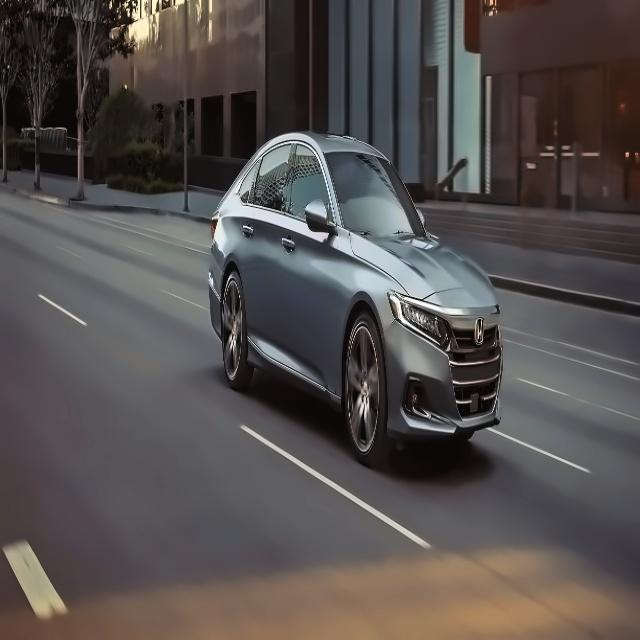Car hood: (348, 228, 507, 317)
Driver-s door - -F-R-: (281, 133, 343, 395)
Fender - -F-R-: (337, 225, 400, 403)
Fender - -R-R-: (210, 214, 244, 297)
Front bumper: (383, 337, 522, 444)
Headlight - -R-: (382, 286, 459, 348)
Passenger-s door - -R-R-: (236, 132, 282, 361)
Rear bumper: (196, 274, 228, 345)
Rear light - -R-: (203, 206, 223, 240)
Side bumper - -R-: (237, 329, 348, 416)
Side mirror - -R-: (301, 188, 332, 234)
